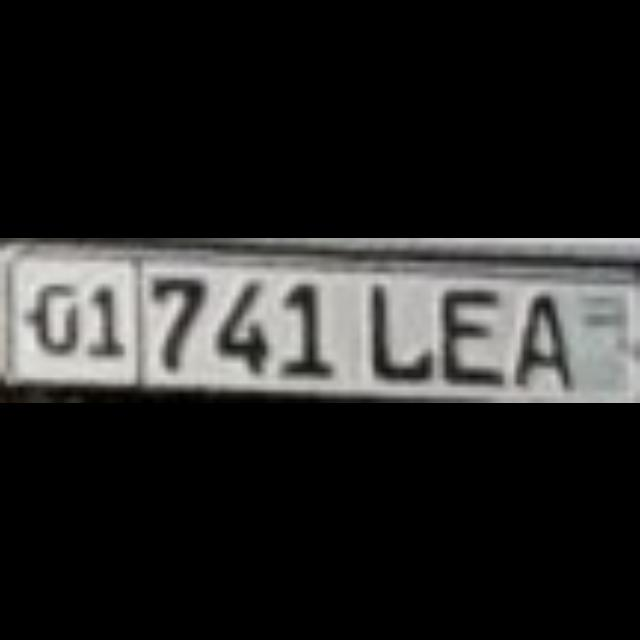0: (24, 272, 70, 344)
1: (272, 272, 326, 368), (78, 272, 119, 344)
4: (208, 272, 260, 368)
7: (142, 266, 195, 362)
A: (503, 278, 562, 379)
E: (432, 272, 492, 373)
L: (356, 272, 420, 373)
